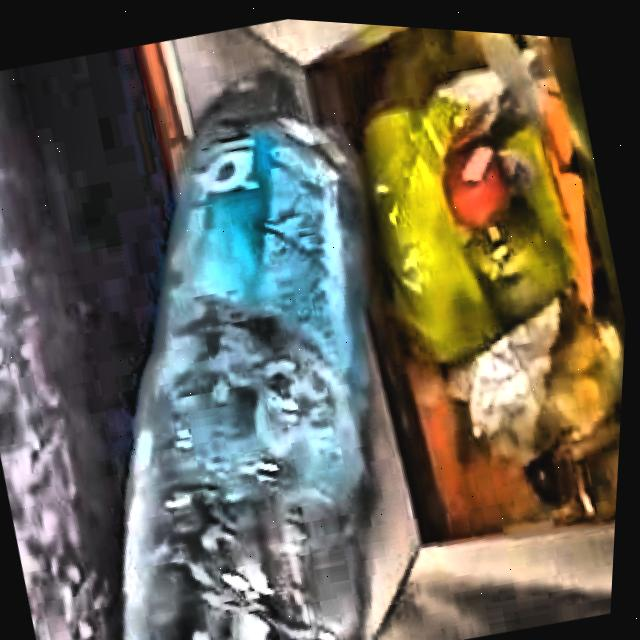plastic: (129, 73, 370, 640)
